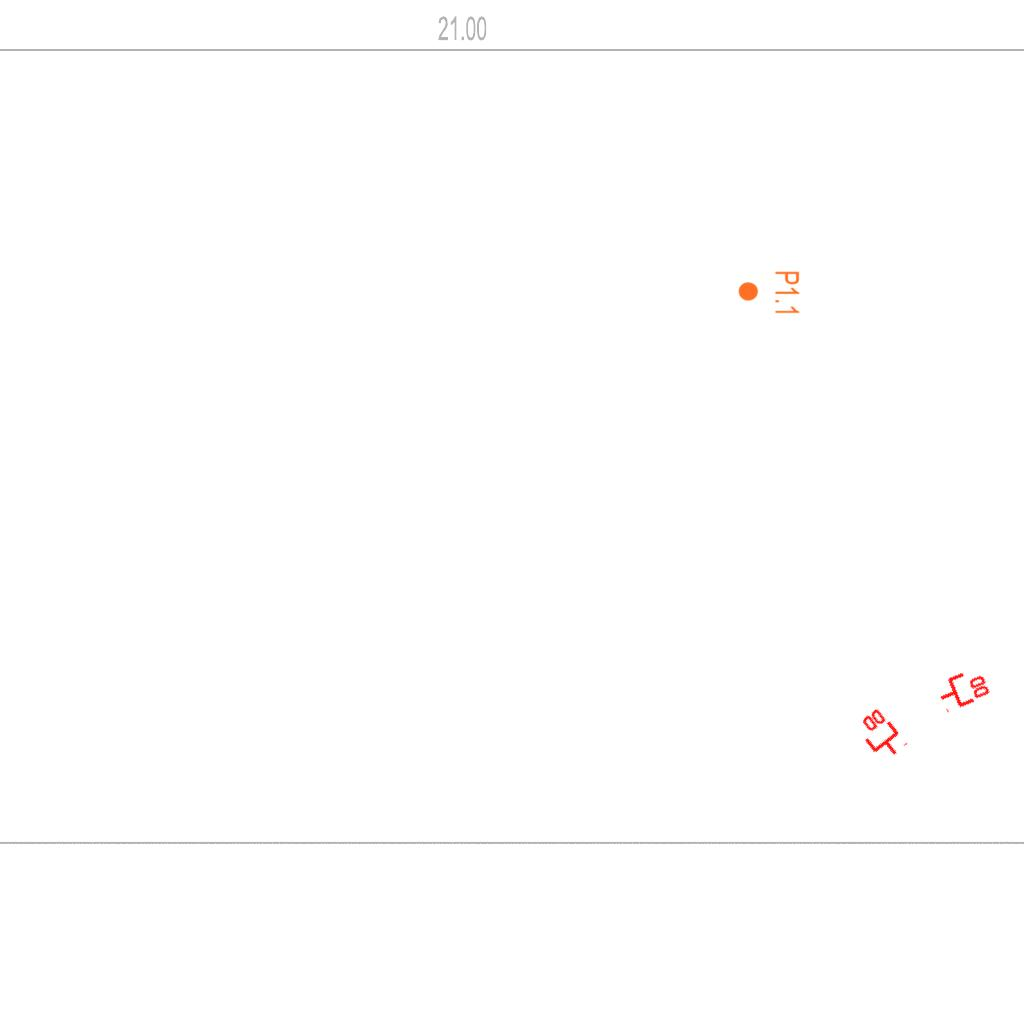Datenanschluss_zweifach: (850, 704, 910, 767), (932, 663, 994, 714)
Downlight_LED_Einbauleuchten_Flur: (737, 270, 801, 316)
